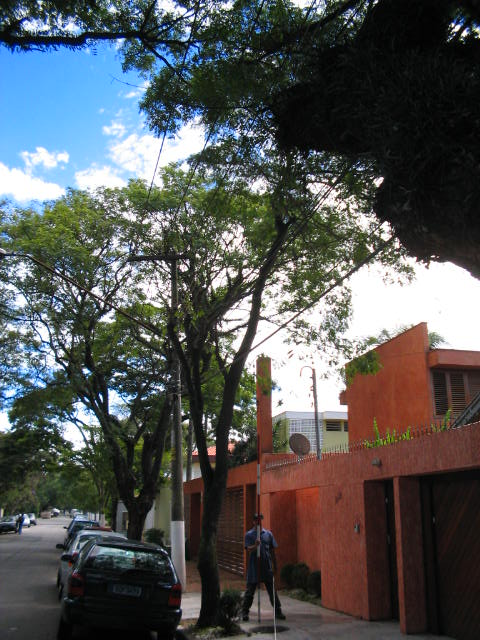stem: (191, 483, 236, 627)
stick: (249, 434, 268, 623)
tree: (1, 155, 411, 639)
